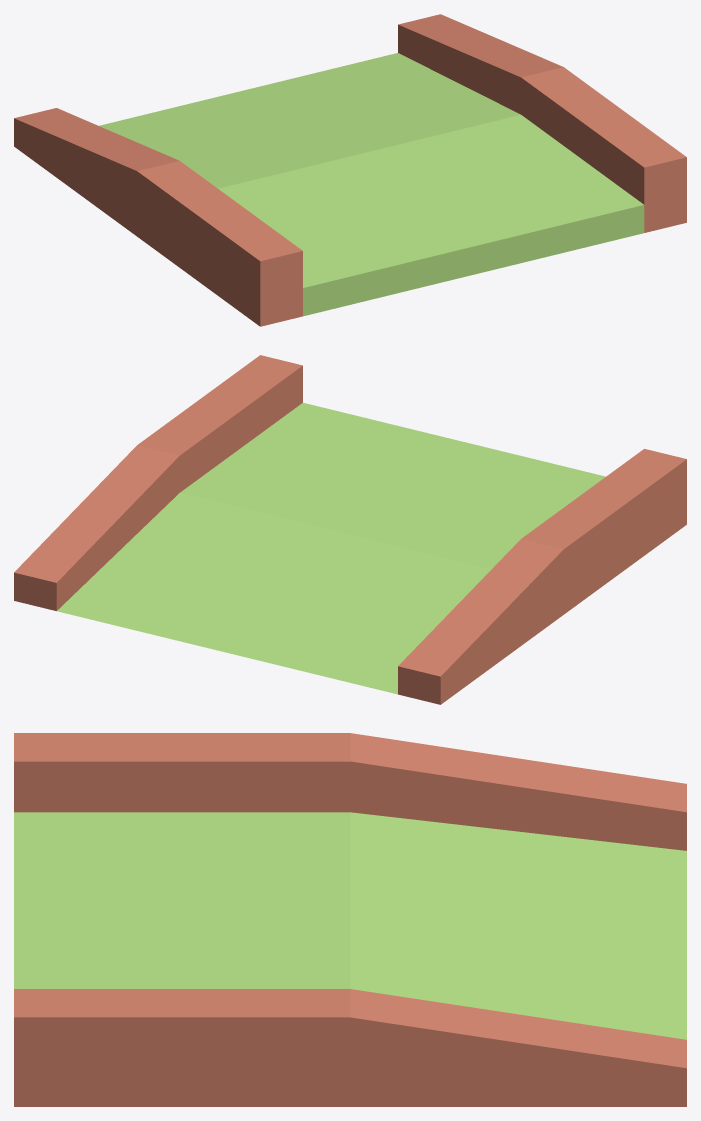
The model's file is Start_01.glb.
3 views of the same model, one above another, from view 1: azimuth 30°, elevation 25°; view 2: azimuth 150°, elevation 25°; view 3: azimuth 270°, elevation 25° (orthographic). The views are drawn at different scales.
Parts seen in each view (by area): view 1: Mesh1 Start Model; view 2: Mesh1 Start Model; view 3: Mesh1 Start Model.
Part boxes in pixels (left/top/right/bottom): Mesh1 Start Model: left=14, top=14, right=686, bottom=326; Mesh1 Start Model: left=14, top=355, right=686, bottom=704; Mesh1 Start Model: left=14, top=733, right=686, bottom=1106.
Bounding box in the file's own units: 3 × 0.44 × 3.
